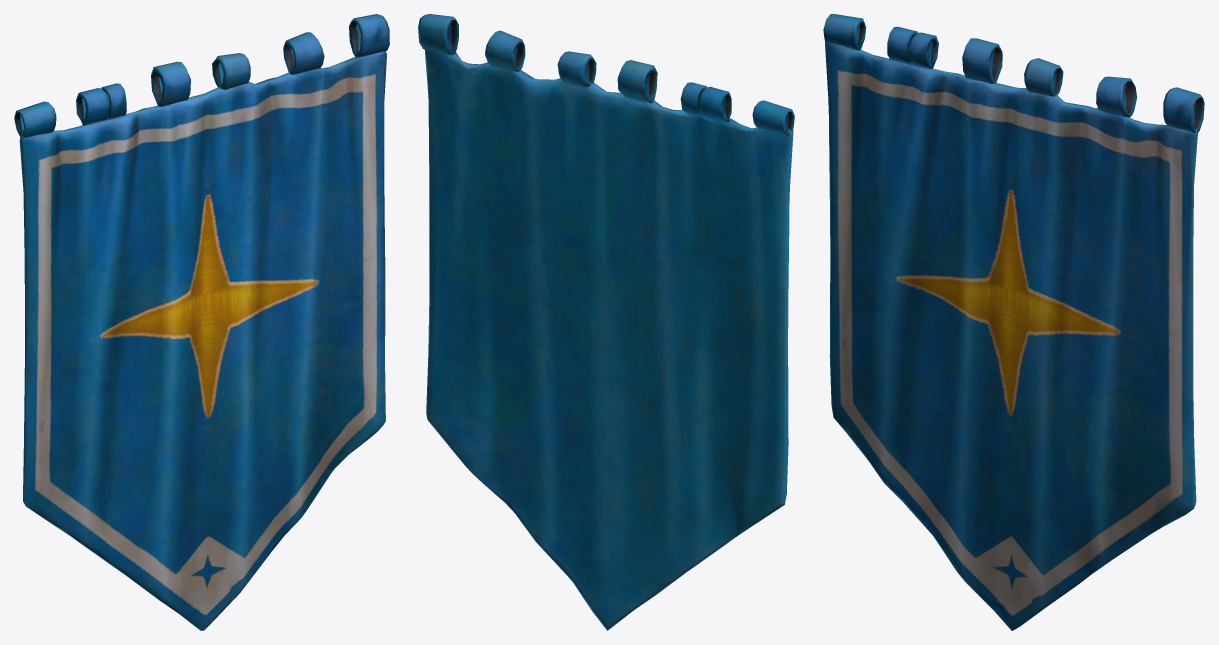
The picture shows the model from 3 angles, left to right: view 1: azimuth 30°, elevation 25°; view 2: azimuth 150°, elevation 25°; view 3: azimuth 330°, elevation 25°; orthographic projection.
Visible parts, largest first — view 1: SM_Double_Banner_Saradomin_01v1_LOD0; view 2: SM_Double_Banner_Saradomin_01v1_LOD0; view 3: SM_Double_Banner_Saradomin_01v1_LOD0.
Boxes of the visible parts, x1,y1,x2,y2 form: SM_Double_Banner_Saradomin_01v1_LOD0: (14,14,389,630); SM_Double_Banner_Saradomin_01v1_LOD0: (418,14,794,630); SM_Double_Banner_Saradomin_01v1_LOD0: (823,14,1204,630).
Size of the model in its own units: 1.59 by 2.38 by 0.1242.
